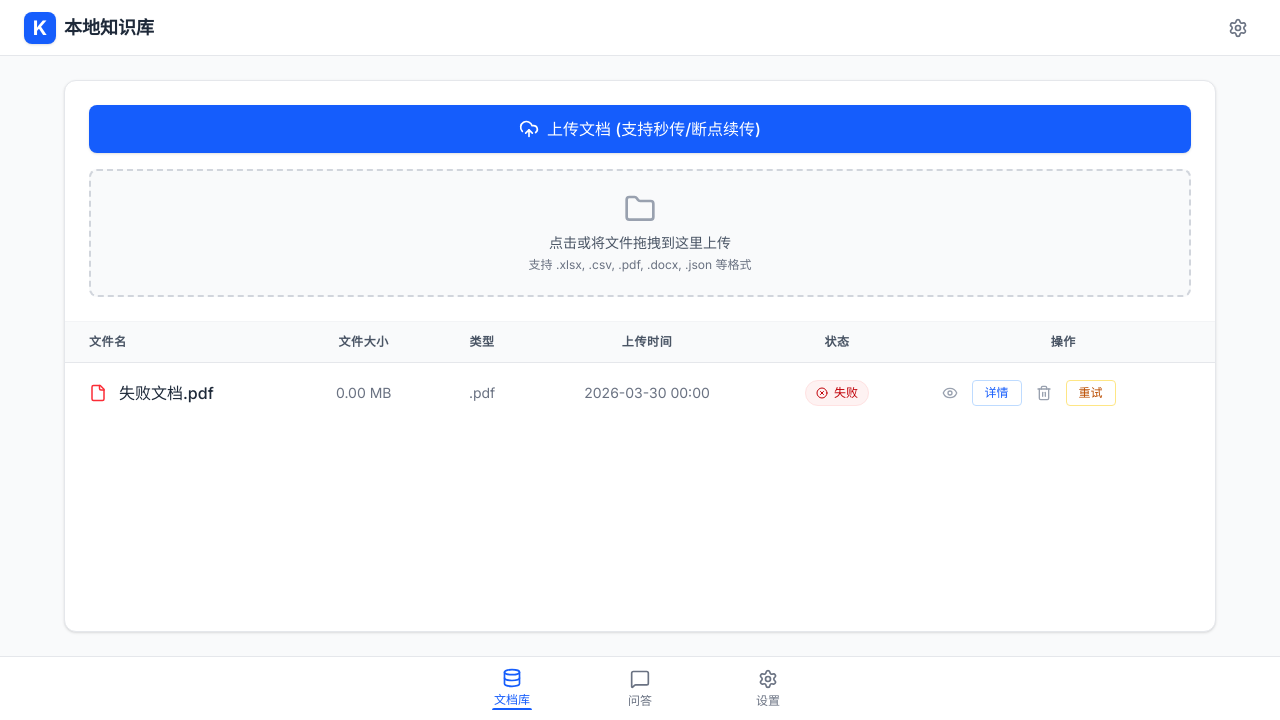
Test: App › rolls back ui preference when immediate save fails
Click the button "设置" at (768, 688), box [728,668,808,708]
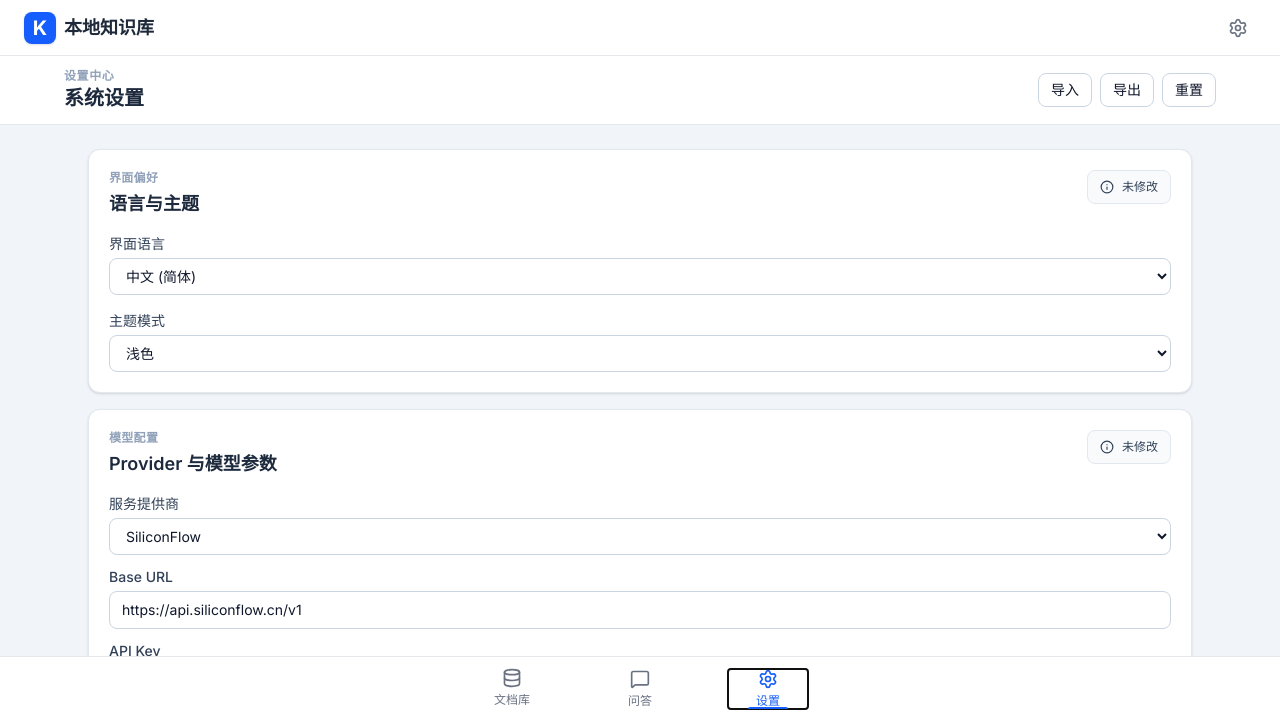
Check: the dropdown labelled "界面语言" shows "中文 (简体)"
Select "English" in the dropdown labelled "界面语言" at (640, 276), box [109,258,1171,295]
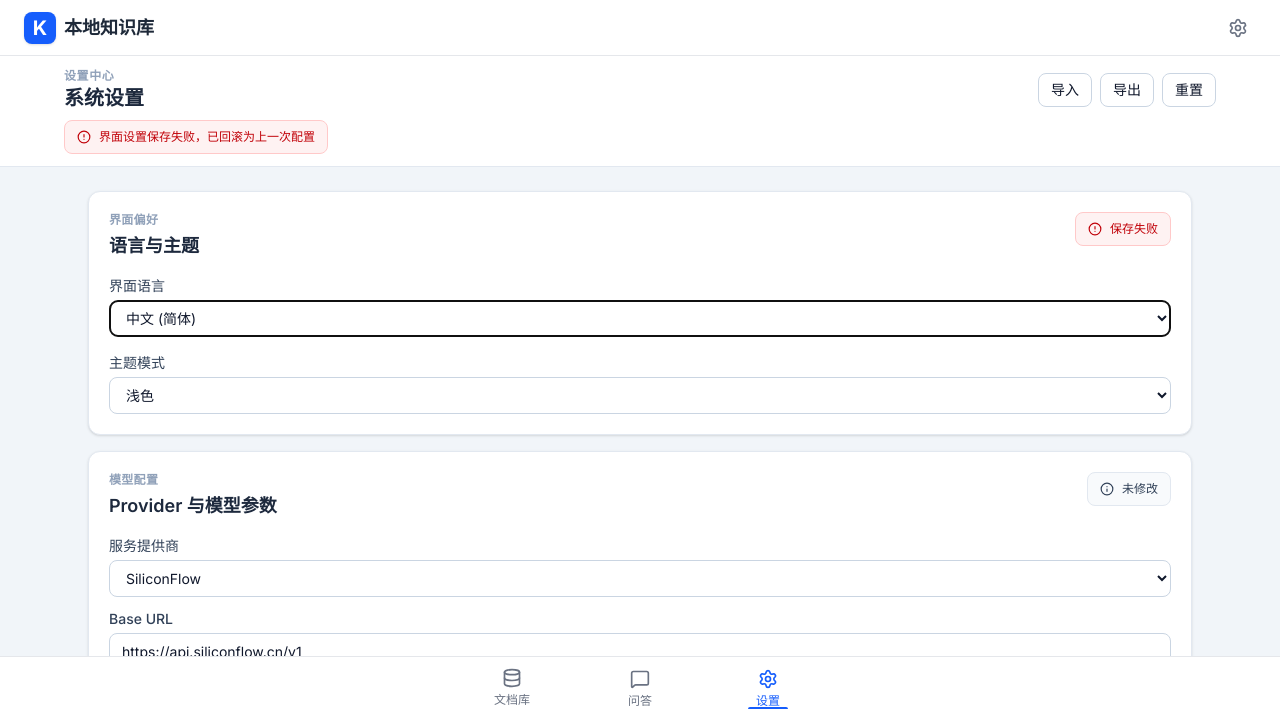
Check: the message with test id "settings-card-ui-state" reads "保存失败", box [1110,221,1158,236]
Check: the text "界面设置保存失败，已回滚为上一次配置" is shown, box [99,129,315,145]
